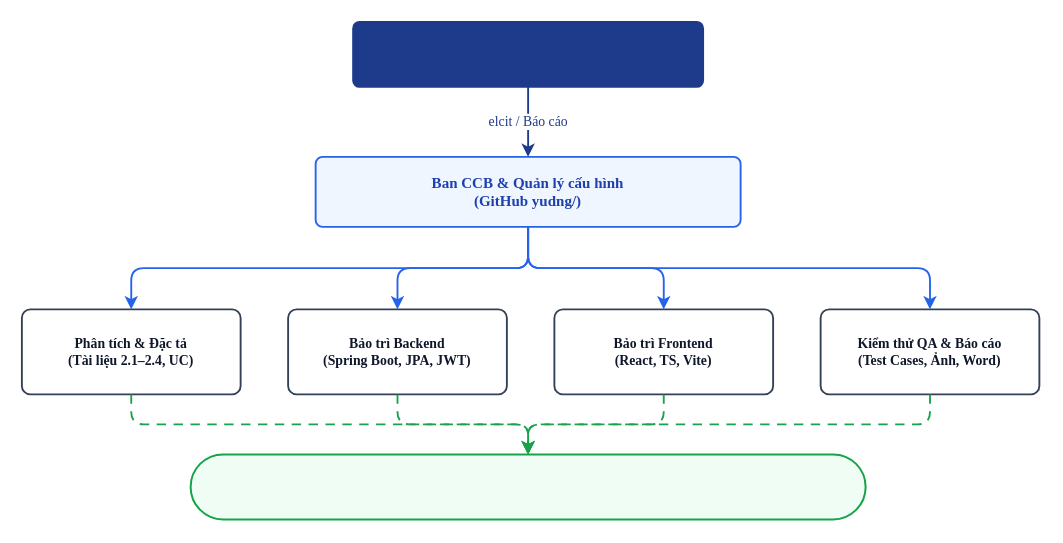
Some shapes in this 1063 by 543 pixel diagram are drawn without their labels. Here are the shapes that lost their labels. From the top down, the box of each, then its label:
(352, 20, 704, 87): Giảng viên hướng dẫn (Phê duyệt & Nghiệm thu)
(189, 453, 866, 520): Kênh trao đổi: Messenger (Hằng ngày) | Họp định kỳ (Thứ 4 & Thứ 7) | GitHub PR
